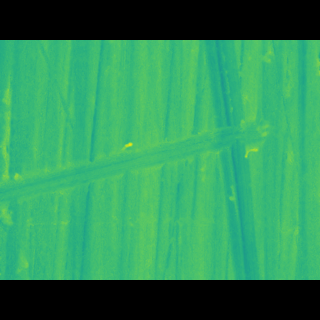Loch: (0, 126, 273, 203), (198, 69, 264, 251), (0, 87, 21, 227)
